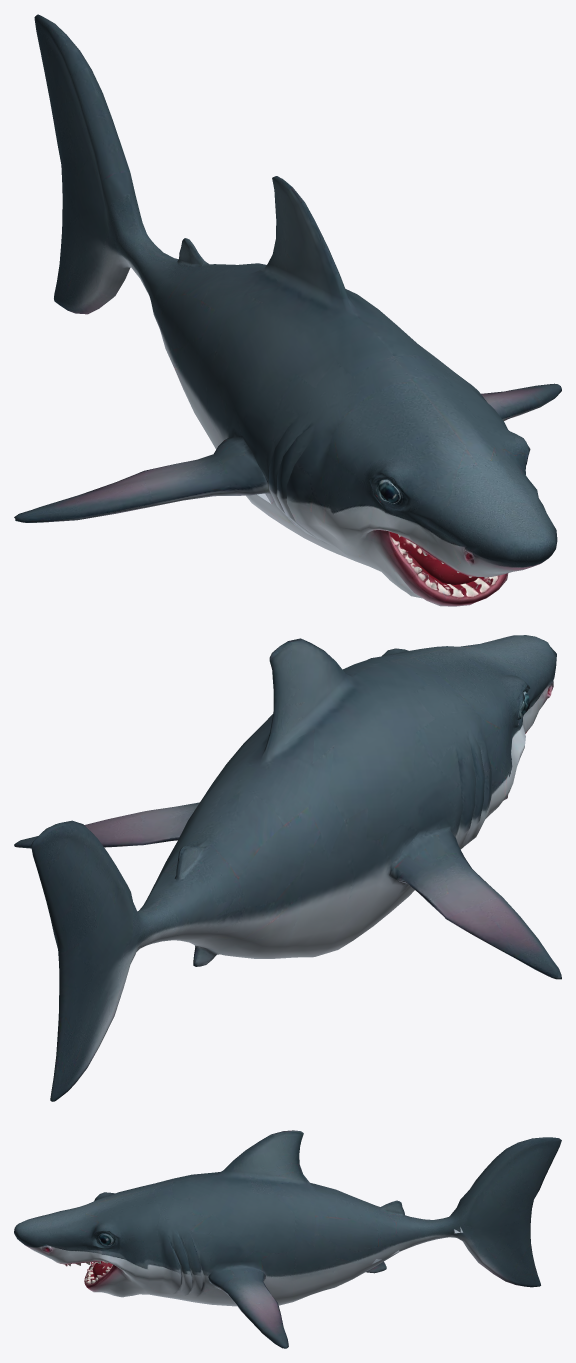
File: shark.glb
3 views of the same model, one above another, from view 1: azimuth 30°, elevation 25°; view 2: azimuth 150°, elevation 25°; view 3: azimuth 270°, elevation 25° (orthographic). The views are drawn at different scales.
Size of the model in its own units: 0.5952 by 0.3315 by 0.9546.
Materials: 1 (1 with a texture image).
